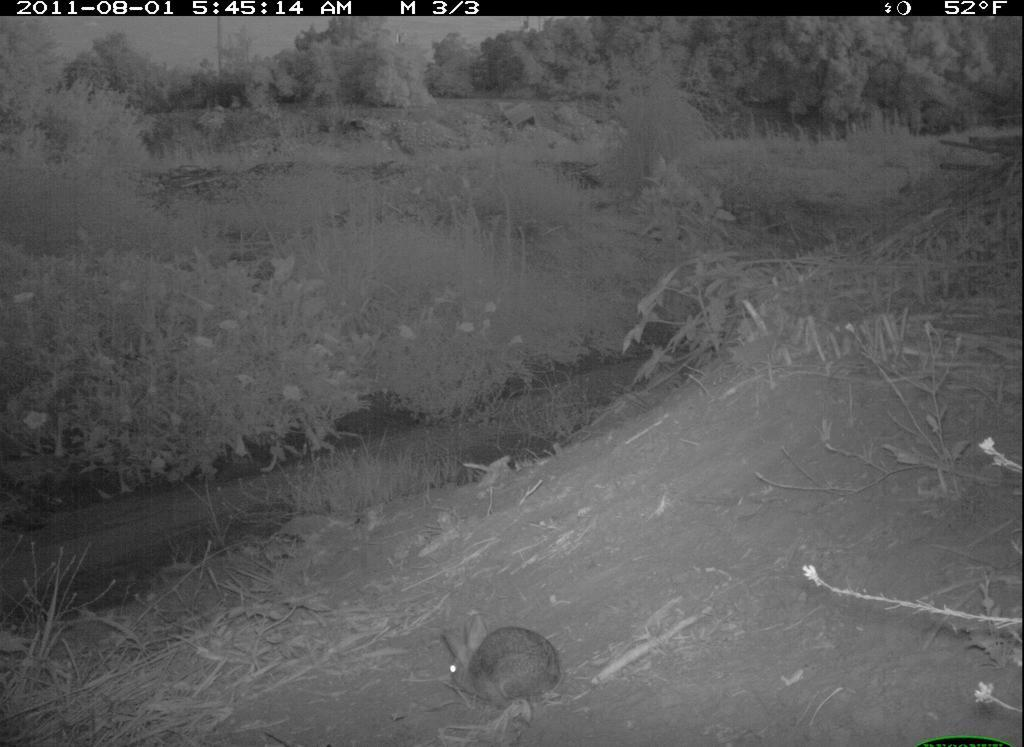rabbit: (440, 615, 566, 710)
